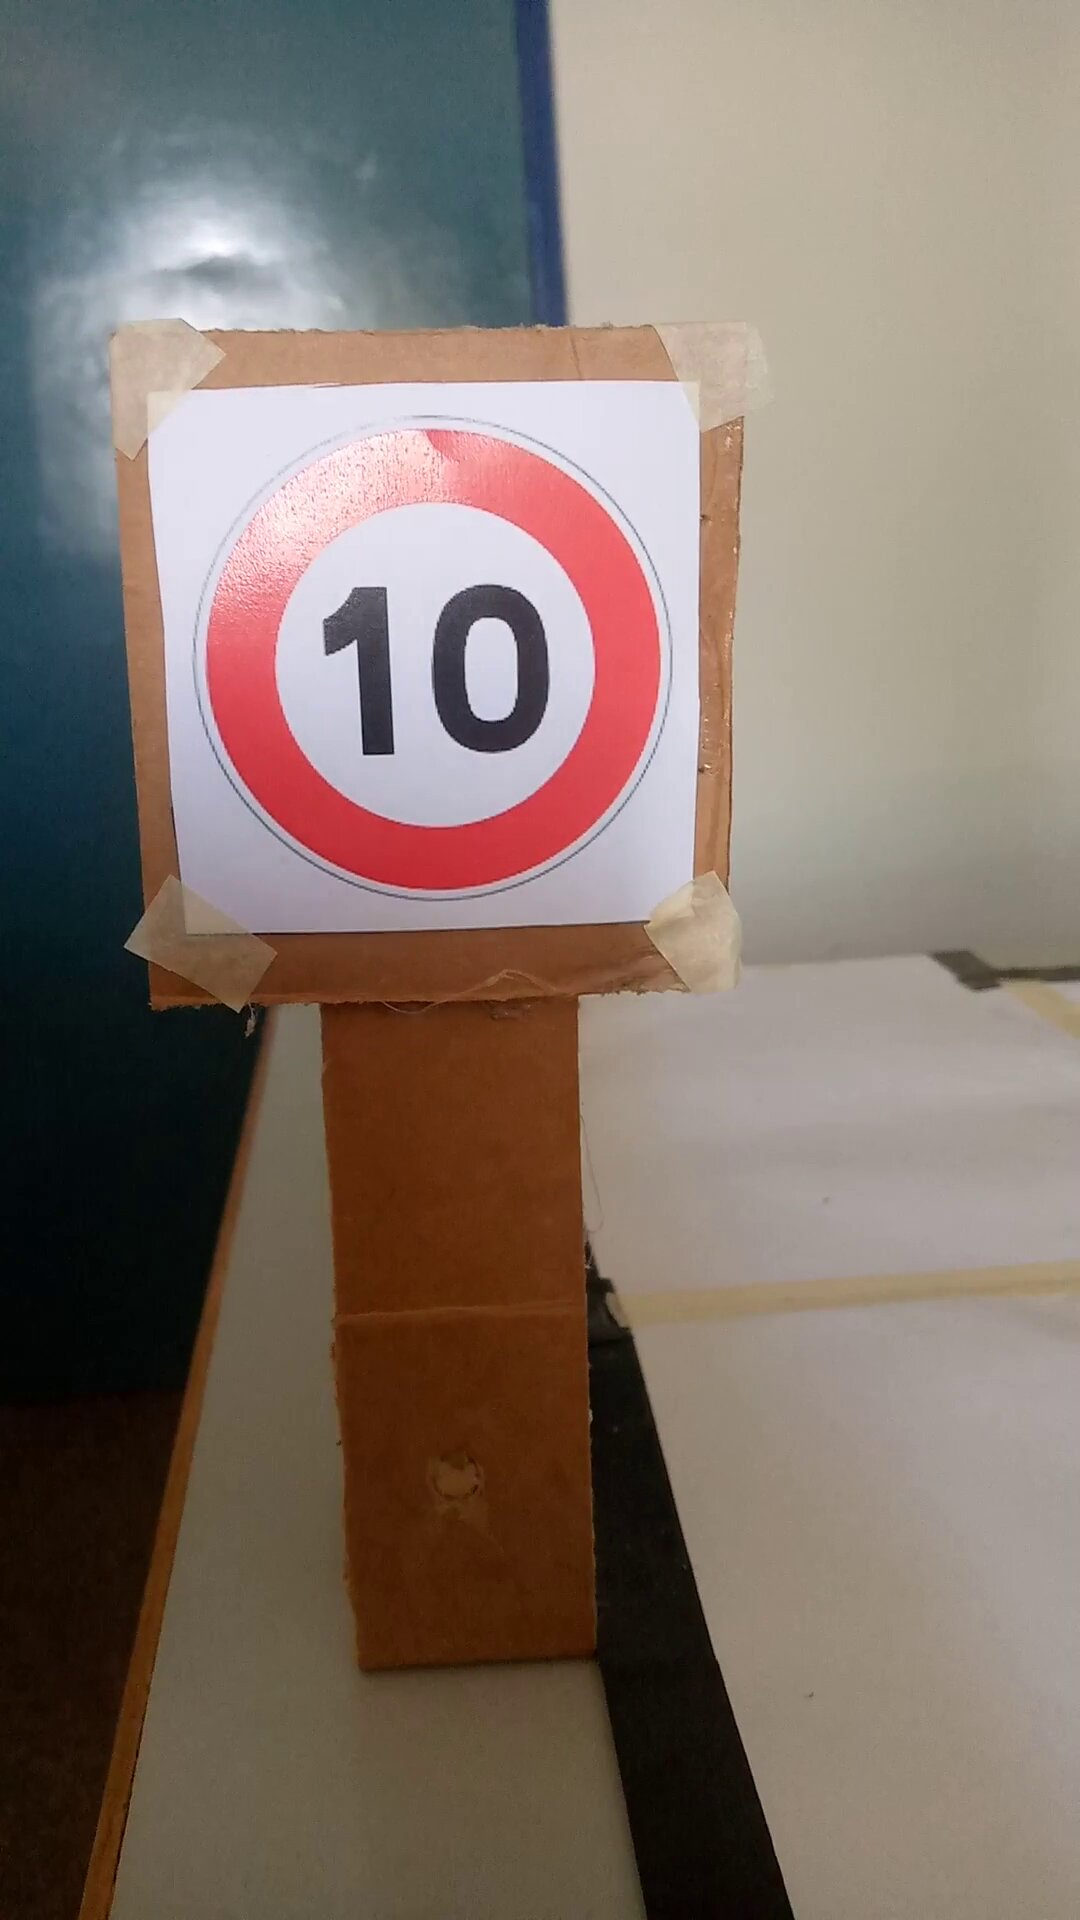panel011: (144, 380, 704, 951)
